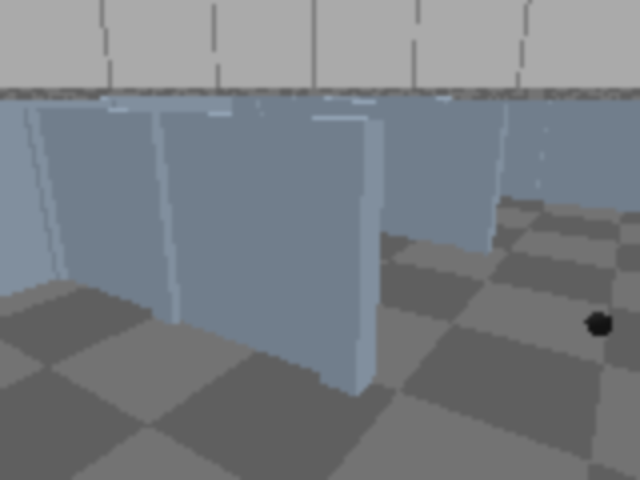puck: (583, 307, 617, 342)
